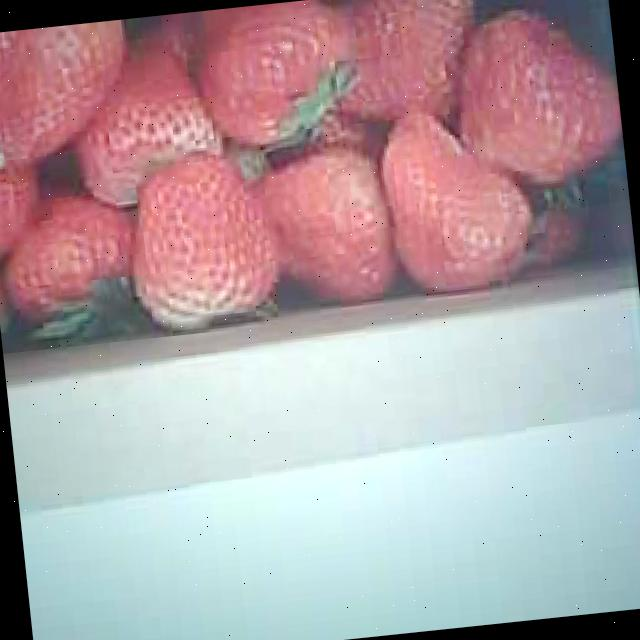strawberry: (450, 0, 626, 194), (119, 150, 286, 332), (376, 100, 534, 292), (192, 0, 364, 149)
